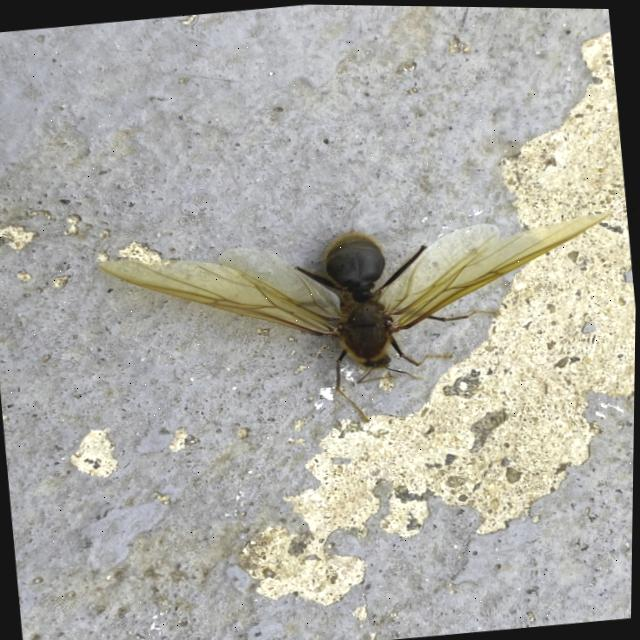Dead-Male-Alate: (94, 202, 633, 453)
